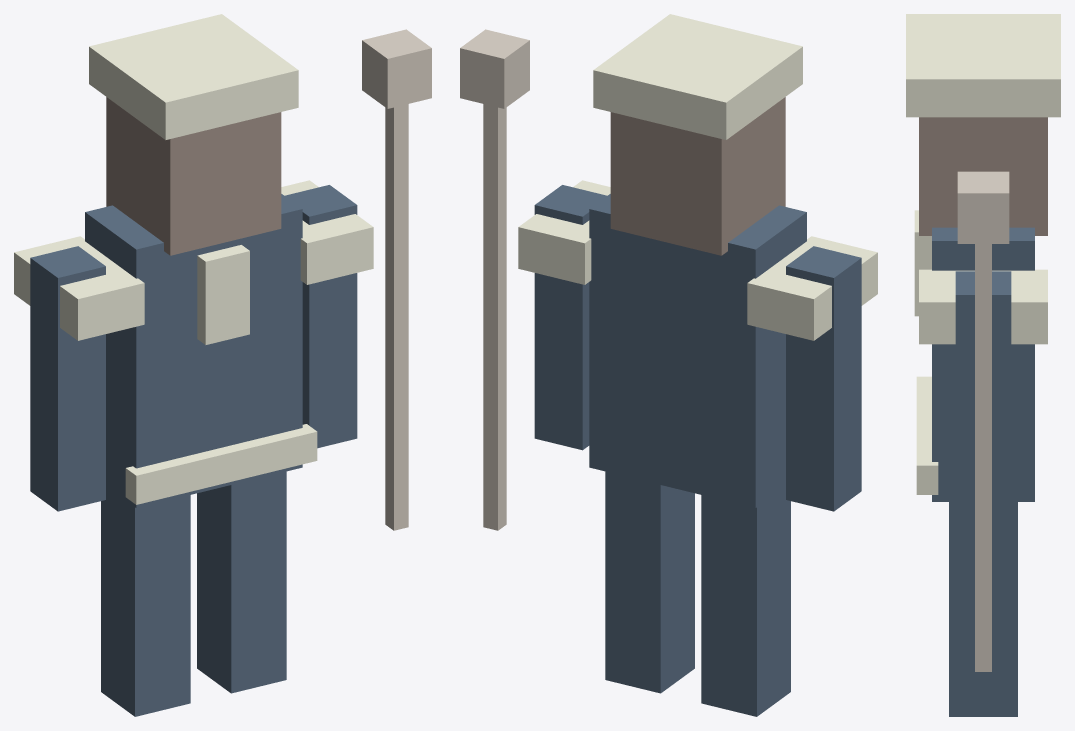
The model's file is 02_makoa_ashvein_responder_near_drone.glb.
3 renders of one model, left to right at view 1: azimuth 30°, elevation 25°; view 2: azimuth 150°, elevation 25°; view 3: azimuth 270°, elevation 25°, orthographic.
Visible parts, largest first — view 1: Makoa Ashvein, Responder near Drone; view 2: Makoa Ashvein, Responder near Drone; view 3: Makoa Ashvein, Responder near Drone.
Boxes of the visible parts, x1,y1,x2,y2 form: Makoa Ashvein, Responder near Drone: (14,14,431,716); Makoa Ashvein, Responder near Drone: (460,14,877,716); Makoa Ashvein, Responder near Drone: (906,14,1060,716).
Bounding box in the file's own units: 0.9684 × 1.55 × 0.3435.
